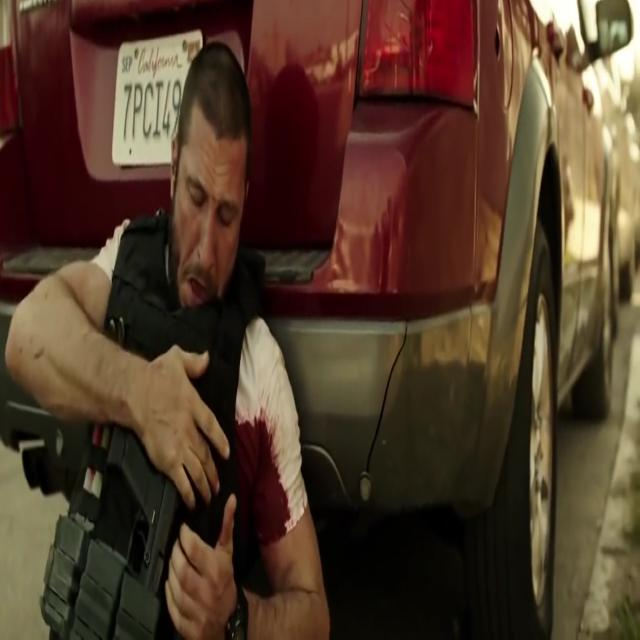Weapon: (112, 408, 190, 629)
